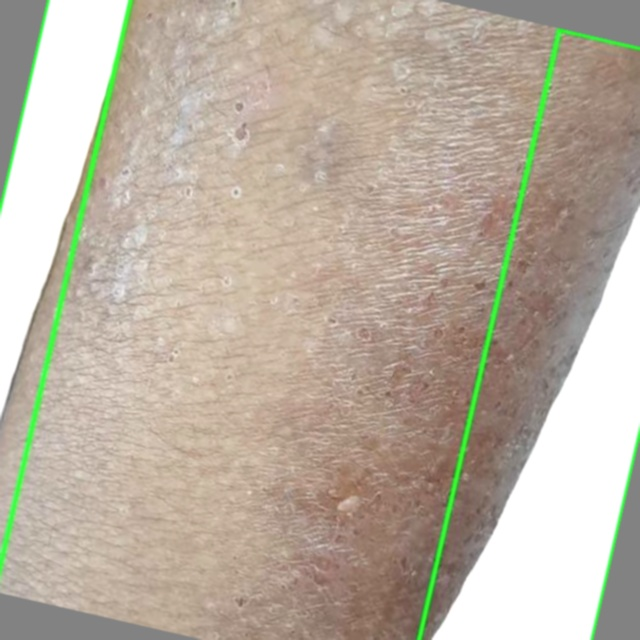Atopic Dermatitis: (419, 29, 639, 639)
